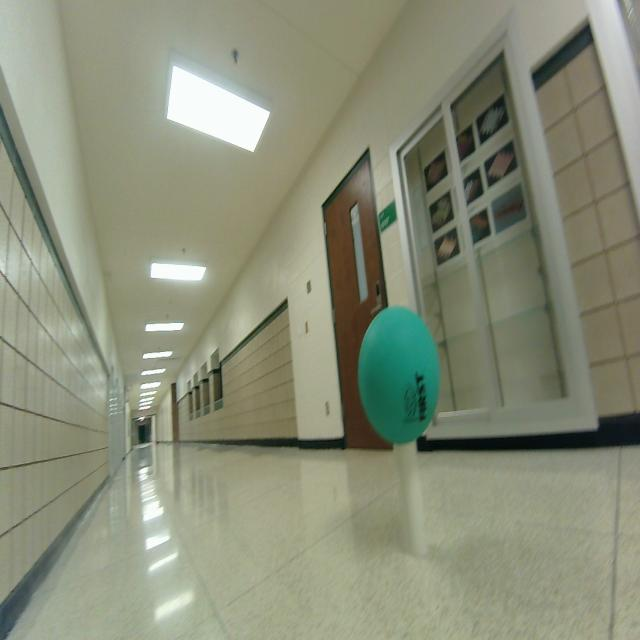algae: (358, 307, 440, 445)
coral: (392, 441, 428, 559)
